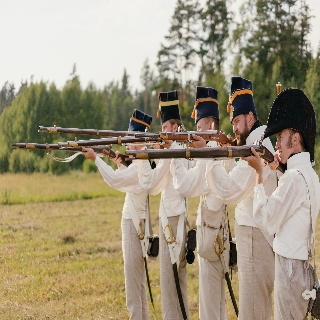rifle: (123, 140, 290, 173), (35, 122, 236, 146), (11, 137, 157, 152)
